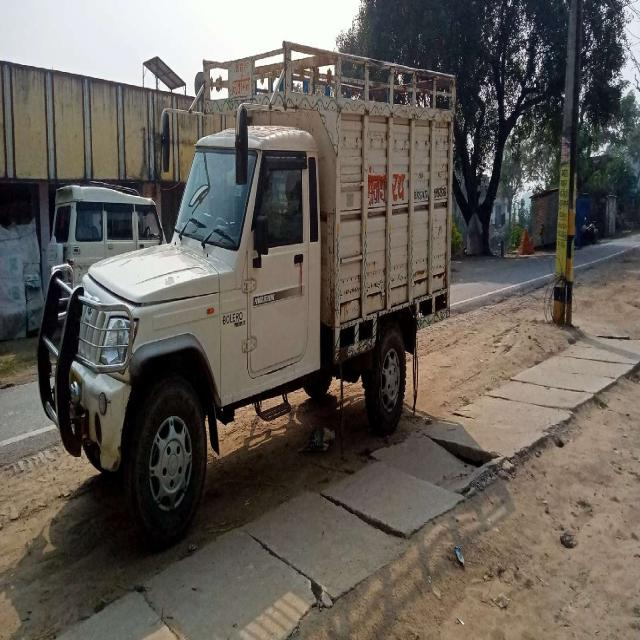light_vehicle: (64, 60, 456, 479)
